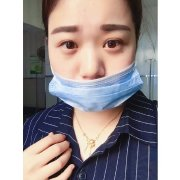face_mask: (47, 0, 137, 112)
